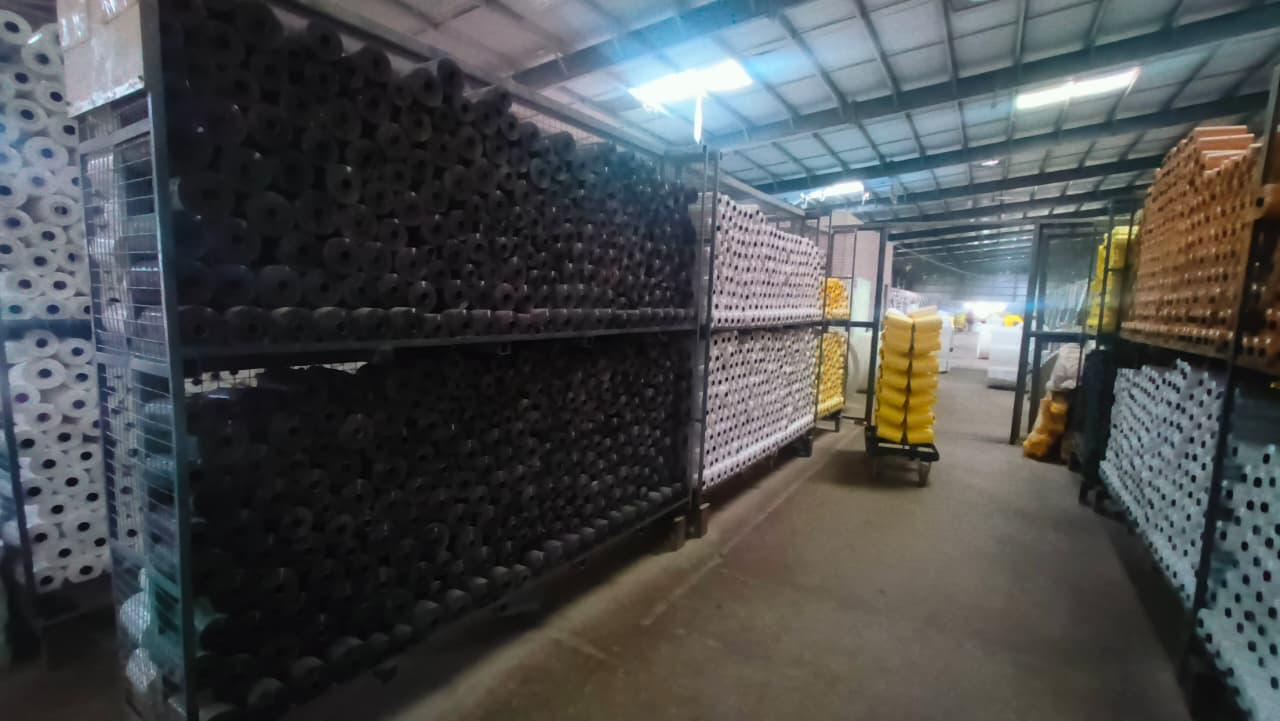thread_roll: (1066, 89, 1279, 708)
